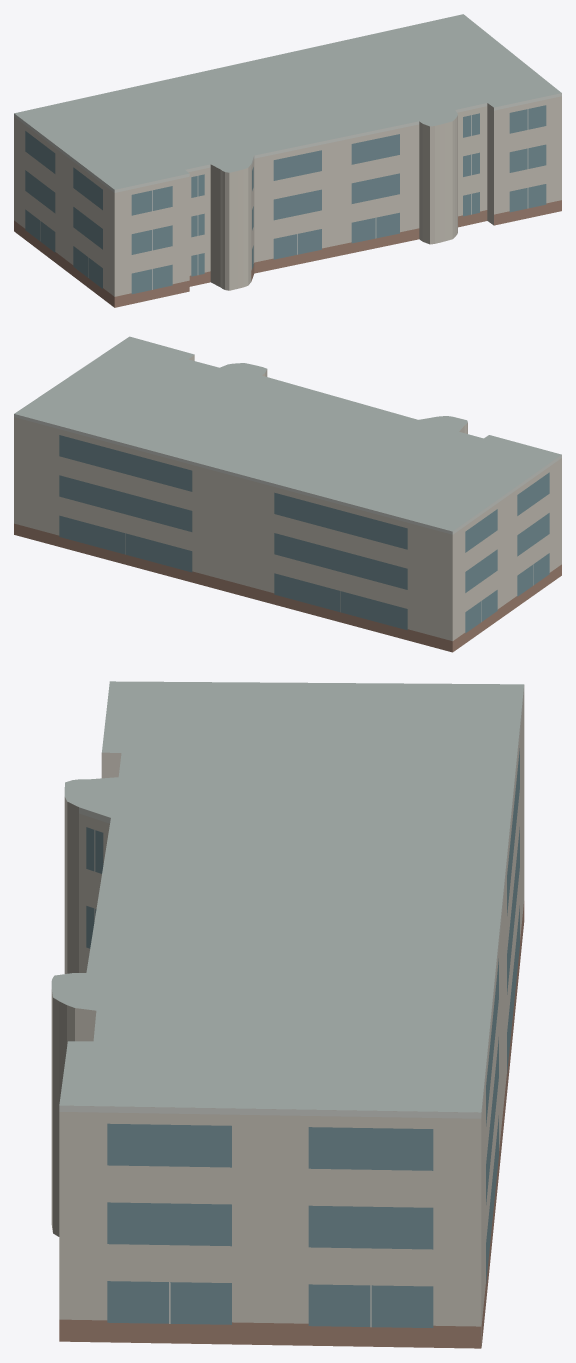
File: survey-upis-33012826.glb
3 renders of one model, top to bottom at view 1: azimuth 30°, elevation 25°; view 2: azimuth 150°, elevation 25°; view 3: azimuth 270°, elevation 25°, orthographic. The views are drawn at different scales.
Visible parts, largest first — view 1: survey-upis-33012826.tmp; view 2: survey-upis-33012826.tmp; view 3: survey-upis-33012826.tmp.
Part boxes in pixels (bbox=[...]): survey-upis-33012826.tmp: bbox=[14, 14, 561, 307]; survey-upis-33012826.tmp: bbox=[14, 336, 561, 652]; survey-upis-33012826.tmp: bbox=[51, 681, 524, 1348].
Bounding box in the file's own units: 35.86 × 9.15 × 16.61.
